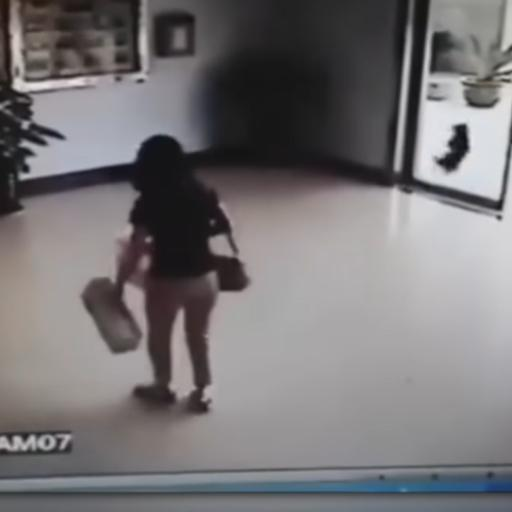Humans: (102, 113, 248, 466)
